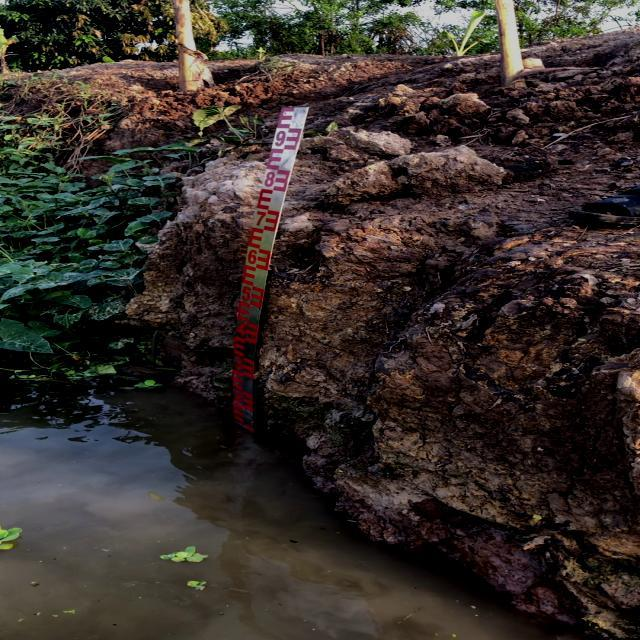ruler: (217, 92, 316, 444)
value: (252, 207, 269, 230), (237, 281, 254, 304), (272, 127, 288, 151), (261, 168, 277, 192), (242, 246, 259, 267), (232, 319, 250, 337), (230, 389, 246, 408), (230, 353, 245, 372)
